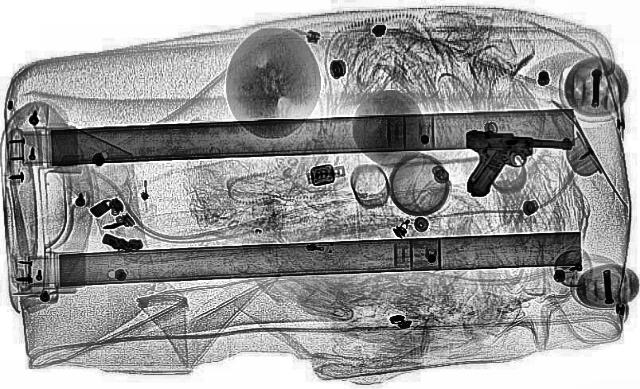Gun: (450, 130, 572, 201)
